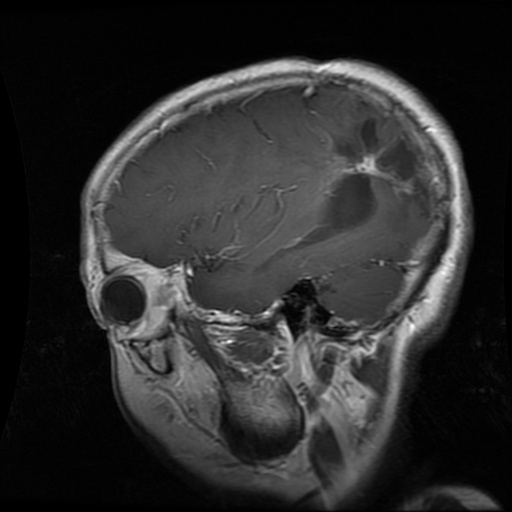glioma: (255, 113, 428, 271)
